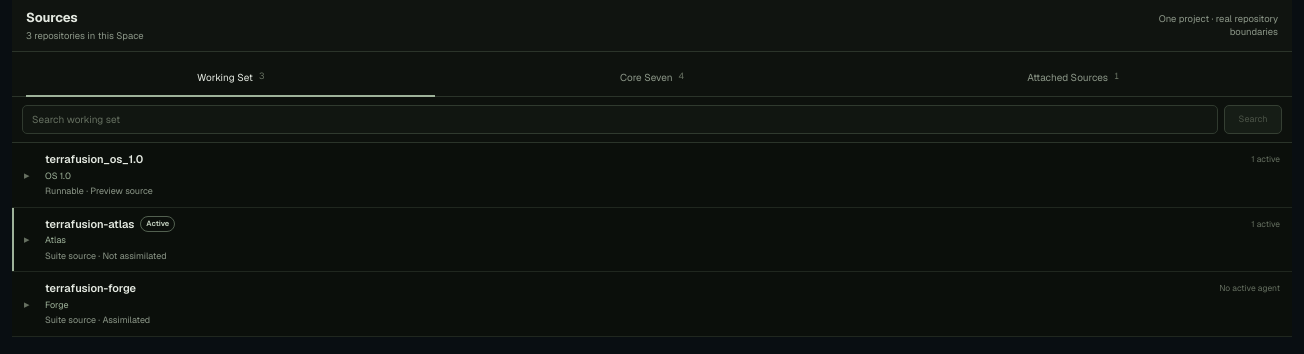
Test: Experience V2 repository shelf › keeps historical attachments read-only and outside the Core Seven
Click the tab with aria-label "Attached Sources, 1 repository": coordinates (1073, 77) [863,58,1284,96]
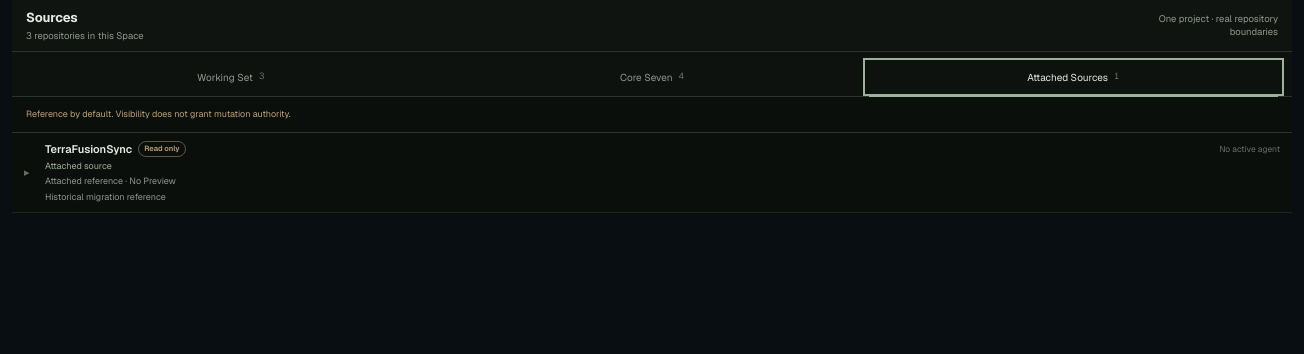
Expected: the button with aria-label "Repository TerraFusionSync," shows "Read only", [12,133,1292,212]
Expected: the button with aria-label "Repository TerraFusionSync," shows "Historical migration reference", [12,133,1292,212]
